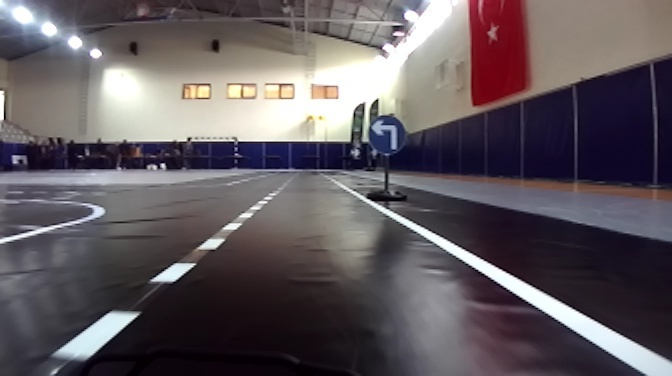sola_donus: (367, 111, 408, 150)
